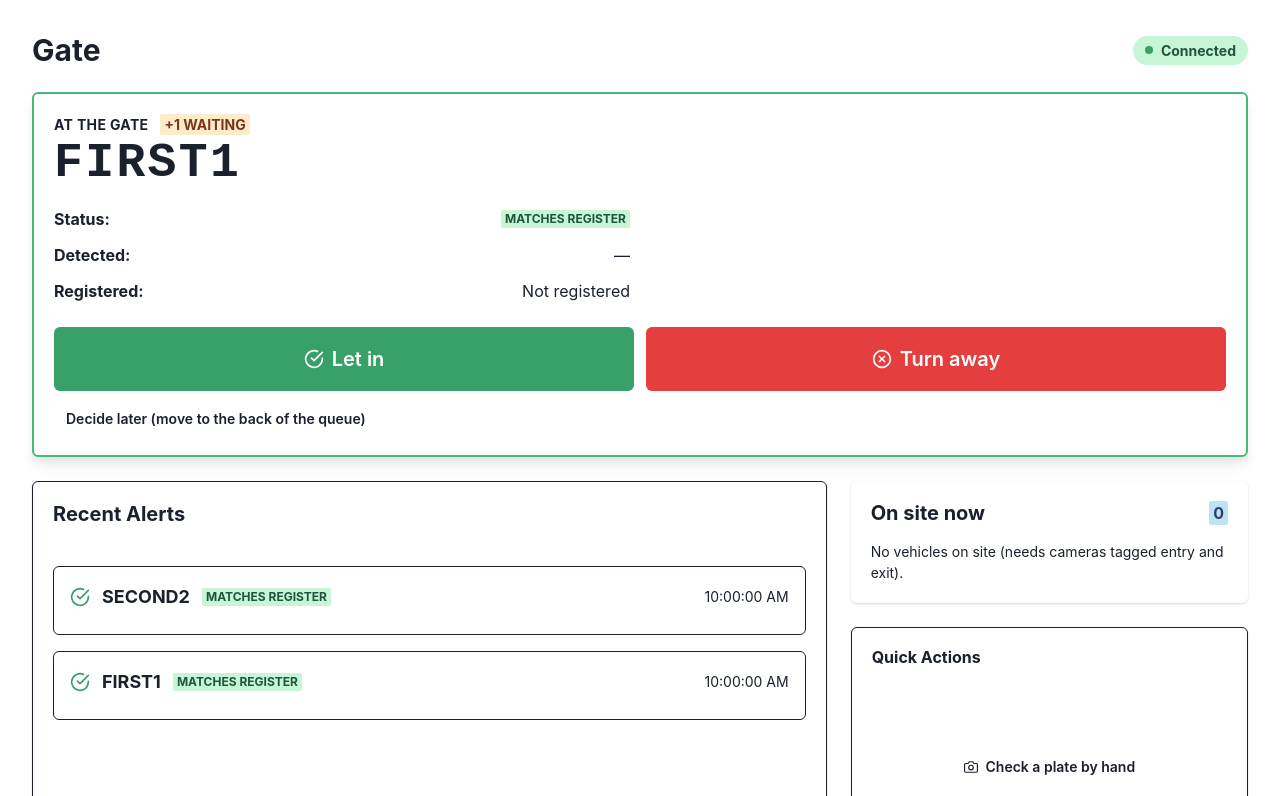
Test: GuardDashboard queue › "decide later" keeps the vehicle in the queue instead of discarding it
Click the button "Decide later (move to the back of the queue)". click: (216, 419)
box: x1=54 y1=403 x2=378 y2=435
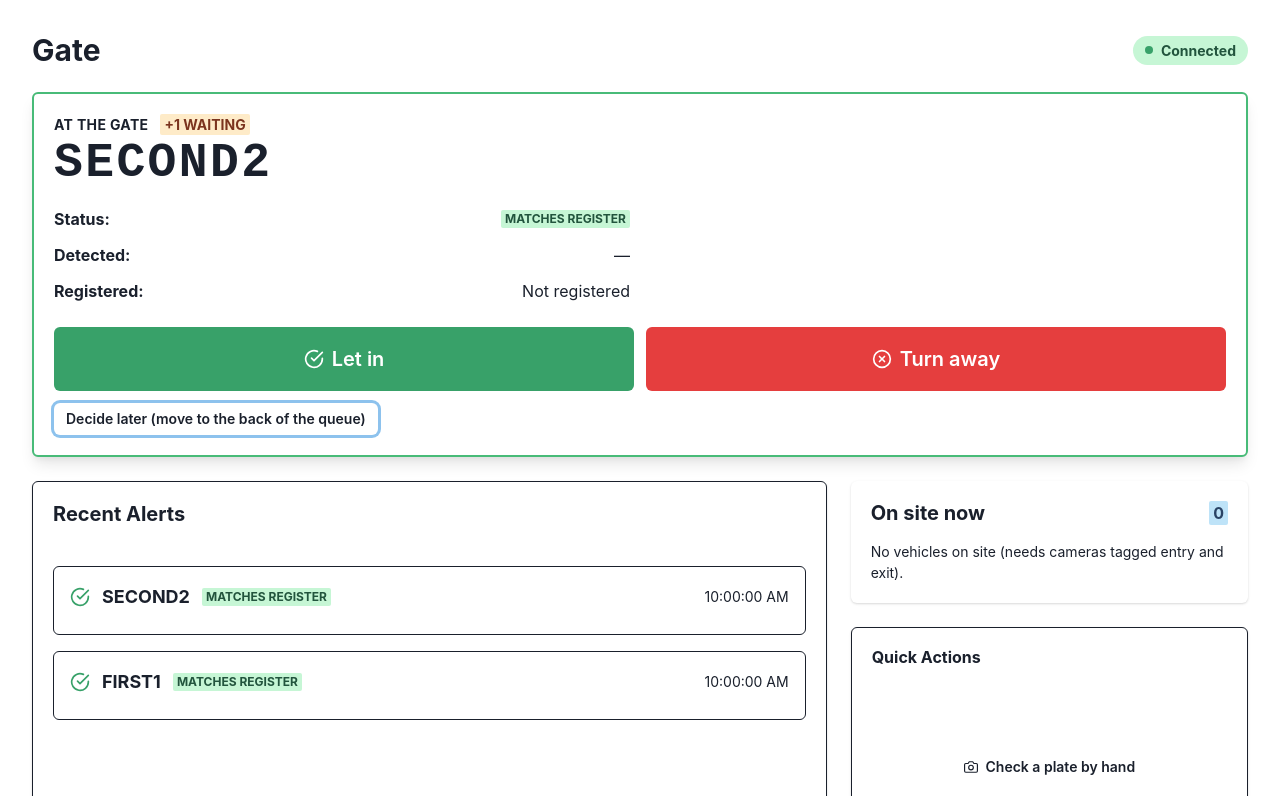
Check: the heading "SECOND2" is shown, box x1=54 y1=136 x2=272 y2=190
Click the button "Decide later (move to the back of the queue)". click: (216, 419)
box: x1=54 y1=403 x2=378 y2=435
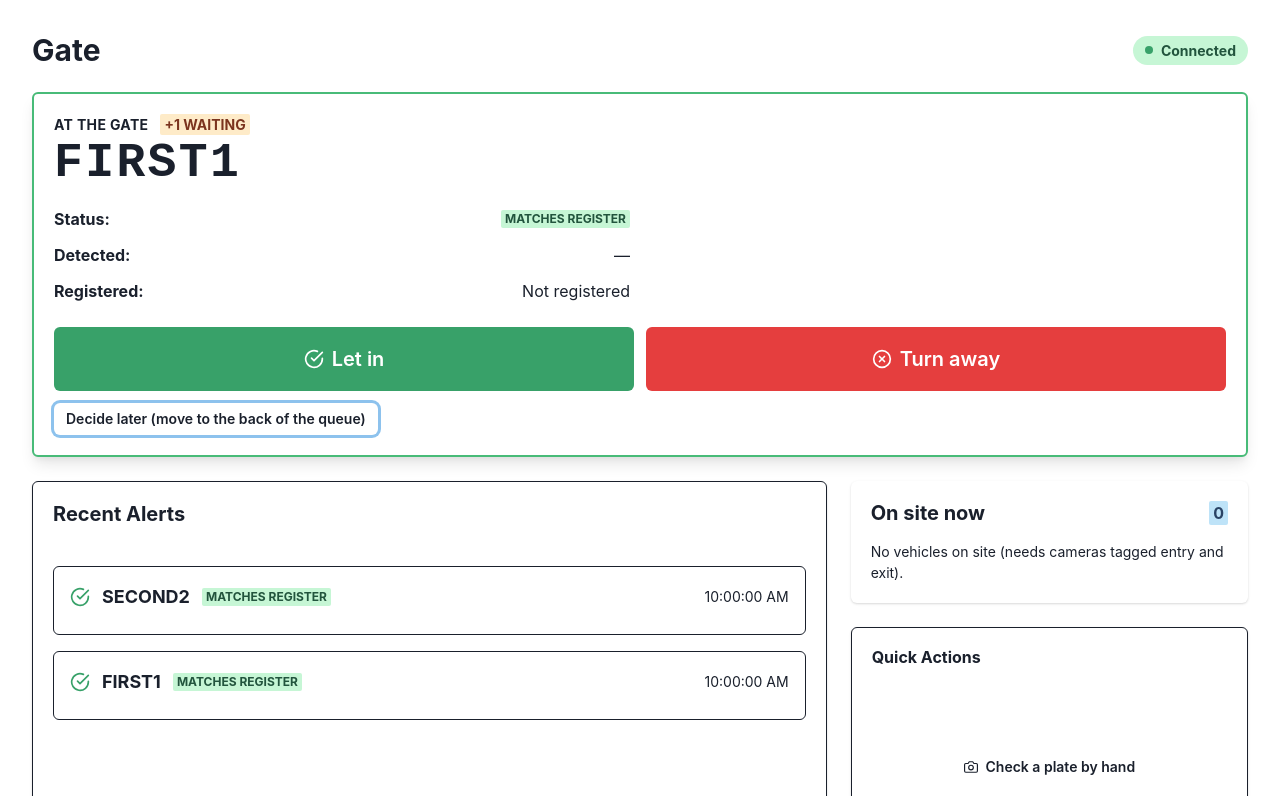
Check: the heading "FIRST1" is shown, box x1=54 y1=136 x2=241 y2=190
